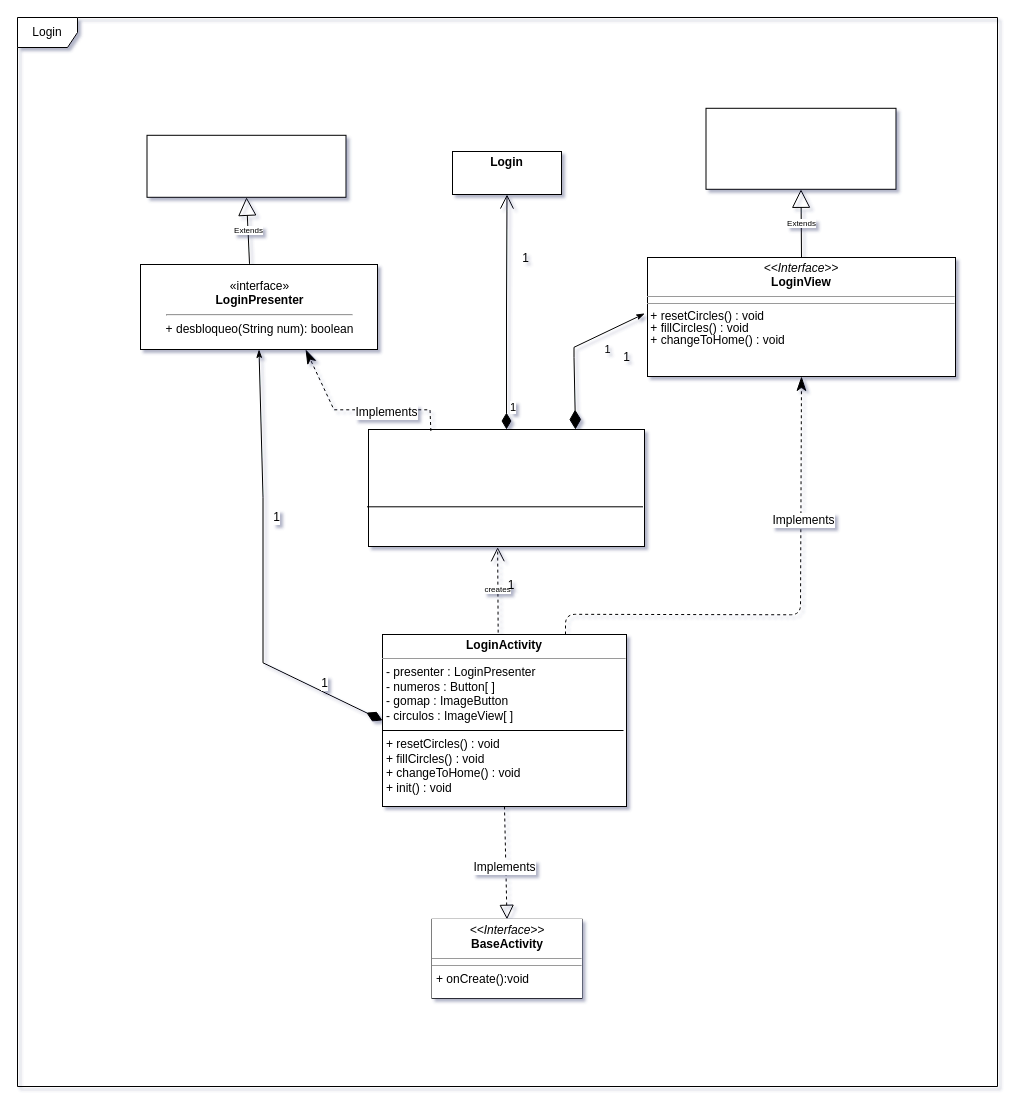
This 1021x1110 diagram has some shape labels left out. Here are the shapes that lost their labels. From the top down, the centre of each, then its label:
point (246, 165): «interface» BasePresenter + setView(view: BaseView):void
point (800, 148): <<Interface>> BaseView + displayView(): bool
point (506, 487): LoginPresenterImpl - login : LoginActivity - log : Login - contrasena : String
